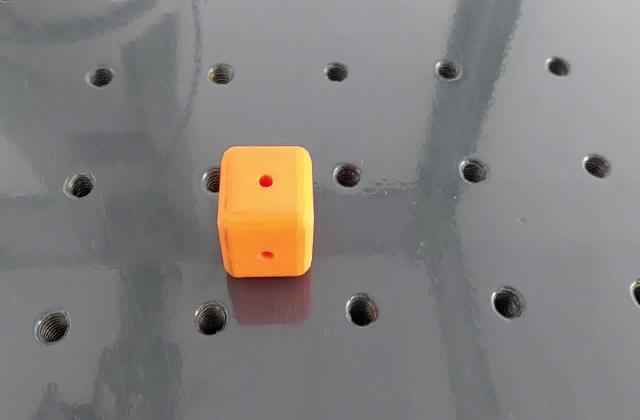cube: (215, 141, 318, 283)
